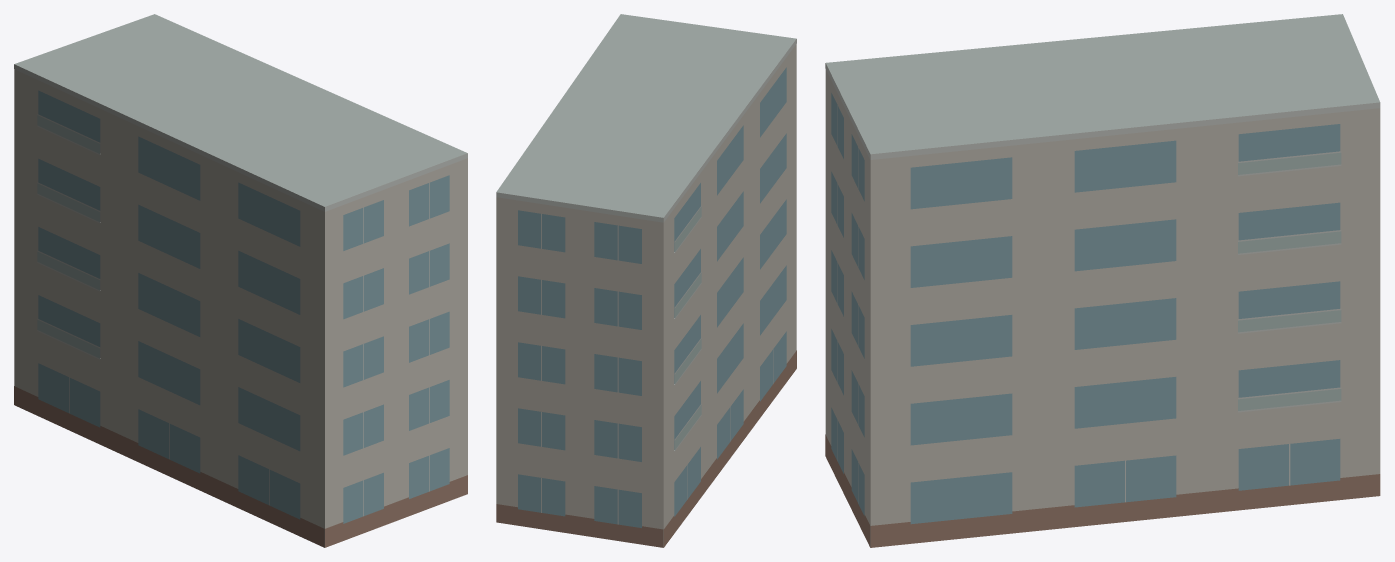
File: survey-upis-32861520.glb
The picture shows the model from 3 angles, left to right: view 1: azimuth 30°, elevation 25°; view 2: azimuth 150°, elevation 25°; view 3: azimuth 270°, elevation 25°; orthographic projection. The views are drawn at different scales.
Parts seen in each view (by area): view 1: survey-upis-32861520.tmp; view 2: survey-upis-32861520.tmp; view 3: survey-upis-32861520.tmp.
Boxes of the visible parts, x1,y1,x2,y2 form: survey-upis-32861520.tmp: (14, 14, 467, 547); survey-upis-32861520.tmp: (496, 14, 796, 547); survey-upis-32861520.tmp: (825, 14, 1380, 547).
Size of the model in its own units: 12.78 by 16.7 by 21.34.
